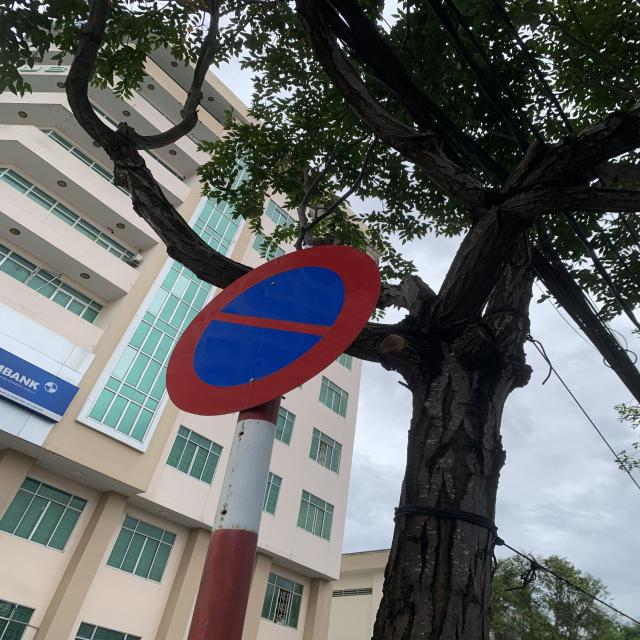Cam_Dau_Xe: (163, 240, 384, 416)
